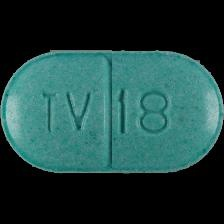58118-0060: (0, 0, 224, 224)
